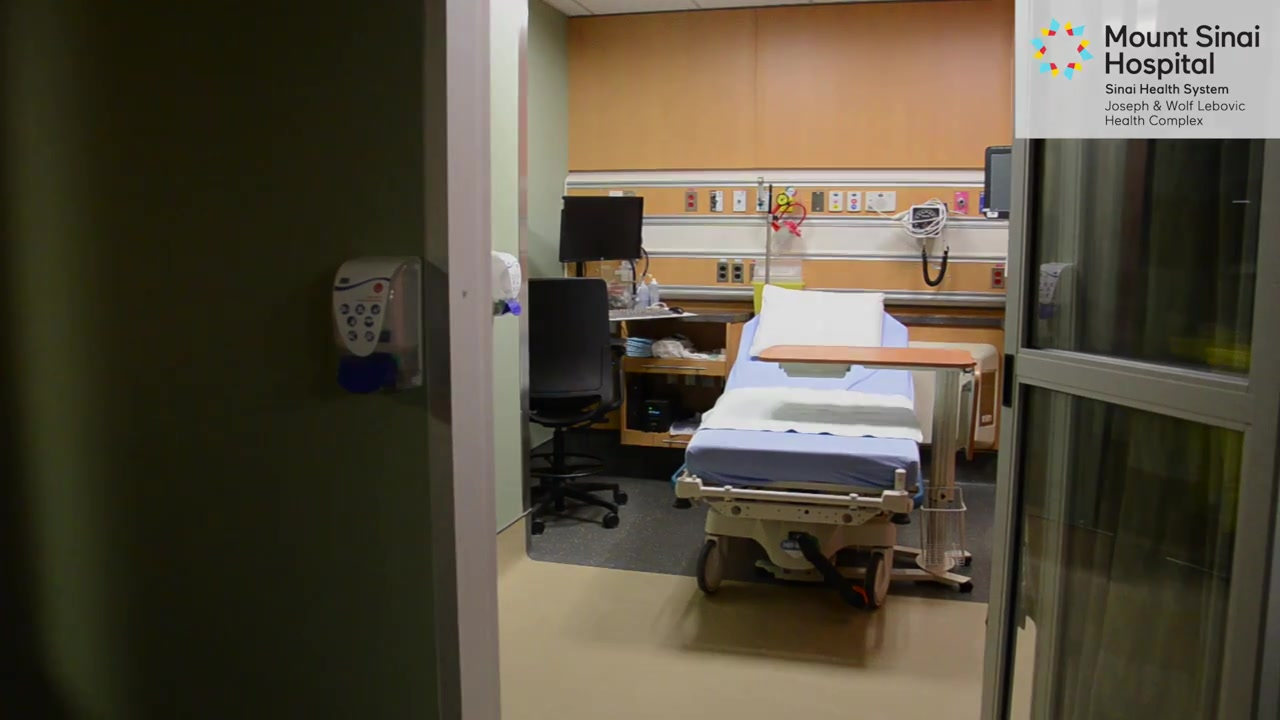bedside_monitor: (984, 145, 1010, 219)
chair: (529, 278, 625, 535)
computer: (558, 195, 645, 263)
curtain: (1070, 138, 1280, 720)
dispenser: (330, 254, 422, 397), (492, 250, 522, 315)
handle: (639, 364, 709, 371), (659, 438, 690, 446)
hospital_bed: (671, 313, 923, 609)
iv_pole: (764, 183, 778, 283)
mouse: (670, 306, 685, 314)
overbed_table: (759, 345, 978, 594)
